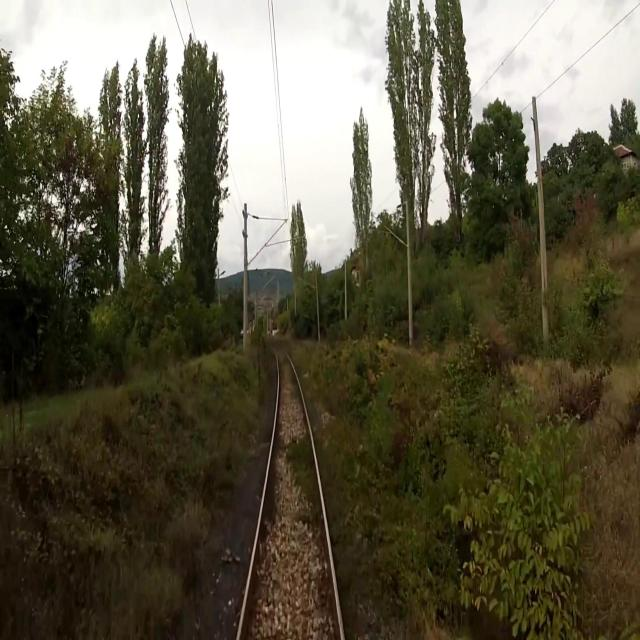rail-track: (241, 354, 339, 639)
